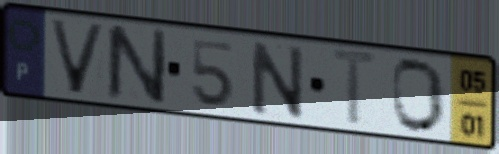5: (189, 35, 237, 109)
N: (102, 22, 170, 107), (248, 38, 308, 121)
O: (389, 56, 448, 136)
T: (328, 45, 384, 129)
V: (45, 16, 110, 97)
